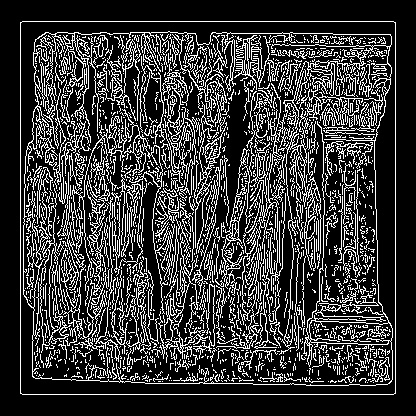buddha-standing: (64, 206, 169, 278)
